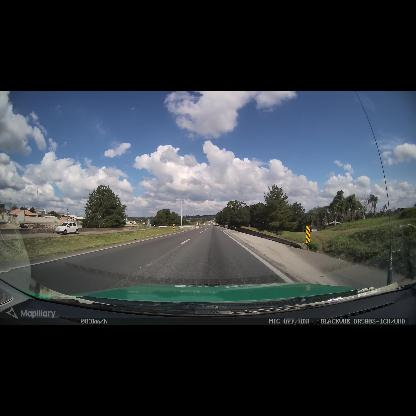O-MP: (306, 225, 311, 243), (173, 224, 175, 230)
